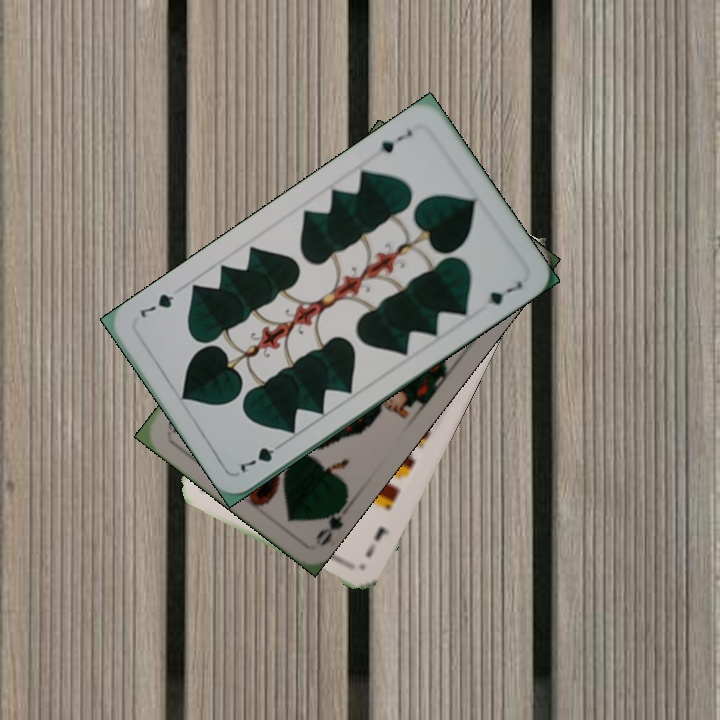E7: (362, 522, 392, 560)
G7: (236, 437, 288, 476), (376, 125, 415, 156)
GO: (311, 493, 350, 549)
